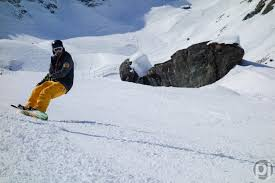snowboarder: (5, 33, 92, 131)
